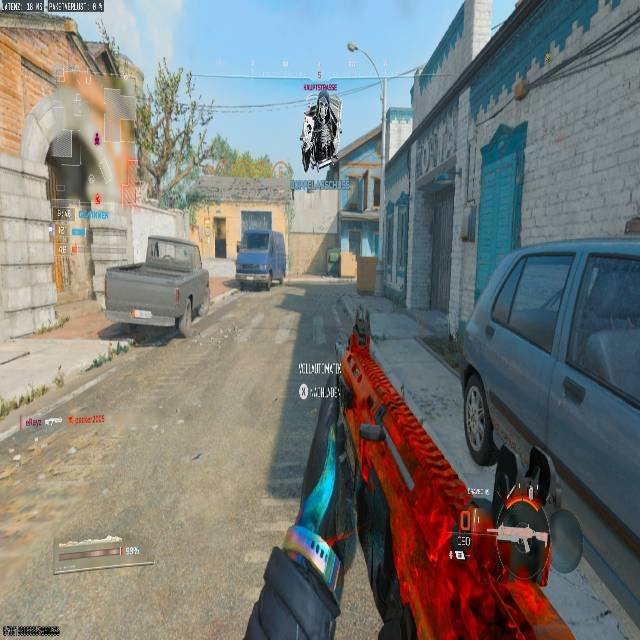player: (302, 89, 341, 173)
